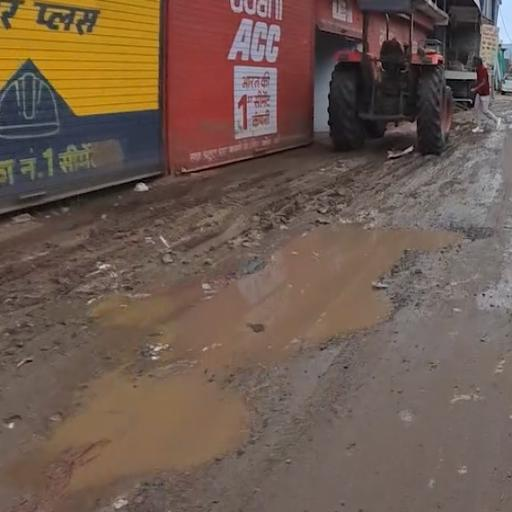pothole: (55, 139, 499, 496)
